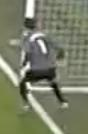goalkeeper: (12, 9, 76, 121)
